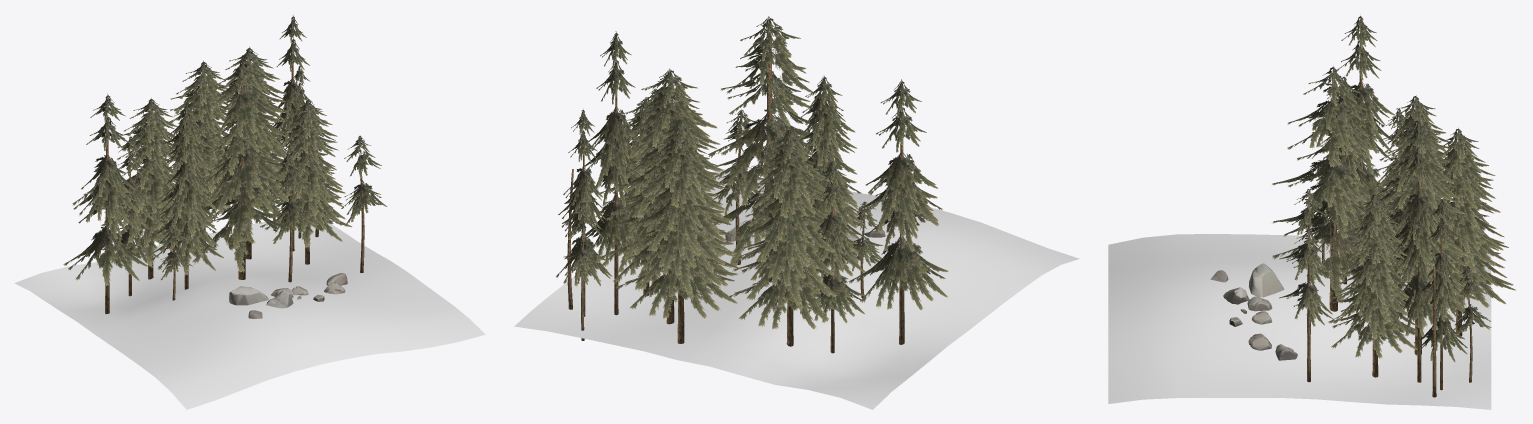
Rendered from grass-scene.glb.
3 views of the same model, side by side, from view 1: azimuth 30°, elevation 25°; view 2: azimuth 150°, elevation 25°; view 3: azimuth 270°, elevation 25° (orthographic). The views are drawn at different scales.
Parts seen in each view (by area): view 1: grass-floor, Cylinder.002, Cylinder.004, Cylinder.009, Cylinder.005, Cylinder.001_1.001, Cylinder.001_1.002, Cylinder.001, Cylinder.007, Cylinder.005_1.001, Cylinder.000, Cylinder.000_1.001 (+2 smaller); view 2: grass-floor, Cylinder.001, Cylinder.001_1.001, Cylinder.005, Cylinder.002, Cylinder.001_1.002, Cylinder.007, Cylinder.004, Cylinder.005_1.001, Cylinder.007_1.001, Cylinder.009, Cylinder.000 (+2 smaller); view 3: grass-floor, Cylinder.002, Cylinder.009, Cylinder.001, Cylinder.001_1.002, Cylinder.007, Cylinder.005, Cylinder.007_1.001, Cylinder.004, Cylinder.001_1.001, Cylinder.000_1.001, Cylinder.000 (+4 smaller).
Part boxes in pixels (x1,y1,x2,y2): grass-floor: (14, 216, 485, 409); Cylinder.002: (192, 59, 293, 279); Cylinder.004: (147, 101, 223, 289); Cylinder.009: (260, 100, 352, 264); Cylinder.005: (63, 93, 148, 313); Cylinder.001_1.001: (101, 98, 189, 266); Cylinder.001_1.002: (198, 46, 295, 232); Cylinder.001: (165, 60, 238, 247); Cylinder.007: (268, 15, 310, 251); Cylinder.005_1.001: (99, 136, 159, 267); Cylinder.000: (269, 153, 315, 282); Cylinder.000_1.001: (341, 135, 387, 226); grass-floor: (514, 168, 1079, 409); Cylinder.001: (615, 117, 739, 343); Cylinder.001_1.001: (725, 128, 848, 329); Cylinder.005: (848, 79, 948, 344); Cylinder.002: (708, 16, 819, 281); Cylinder.001_1.002: (596, 68, 735, 291); Cylinder.007: (575, 31, 646, 315); Cylinder.004: (797, 75, 867, 277); Cylinder.005_1.001: (805, 161, 864, 323); Cylinder.007_1.001: (556, 109, 612, 286); Cylinder.009: (595, 97, 665, 296); Cylinder.000: (708, 109, 763, 264); grass-floor: (1108, 234, 1491, 409); Cylinder.002: (1272, 66, 1397, 311); Cylinder.009: (1328, 193, 1425, 377); Cylinder.001: (1434, 128, 1515, 336); Cylinder.001_1.002: (1365, 119, 1478, 327); Cylinder.007: (1390, 120, 1454, 382); Cylinder.005: (1318, 16, 1395, 213); Cylinder.007_1.001: (1414, 199, 1467, 362); Cylinder.004: (1305, 76, 1377, 284); Cylinder.001_1.001: (1367, 95, 1452, 267); Cylinder.000_1.001: (1279, 228, 1333, 326); Cylinder.000: (1279, 189, 1333, 333).
Bounding box in the file's own units: 14.99 × 11.82 × 15.85.
3 materials, 3 textured.
